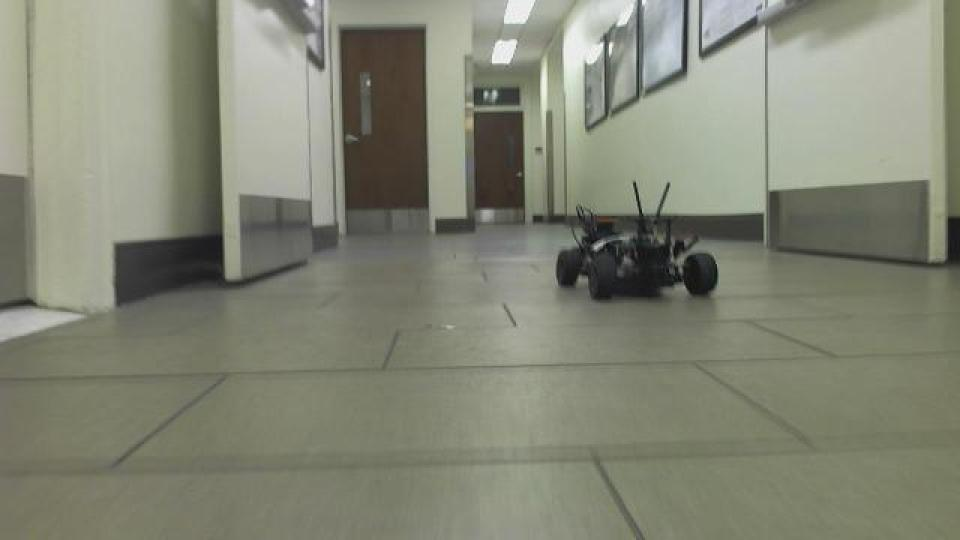car: (550, 177, 720, 303)
